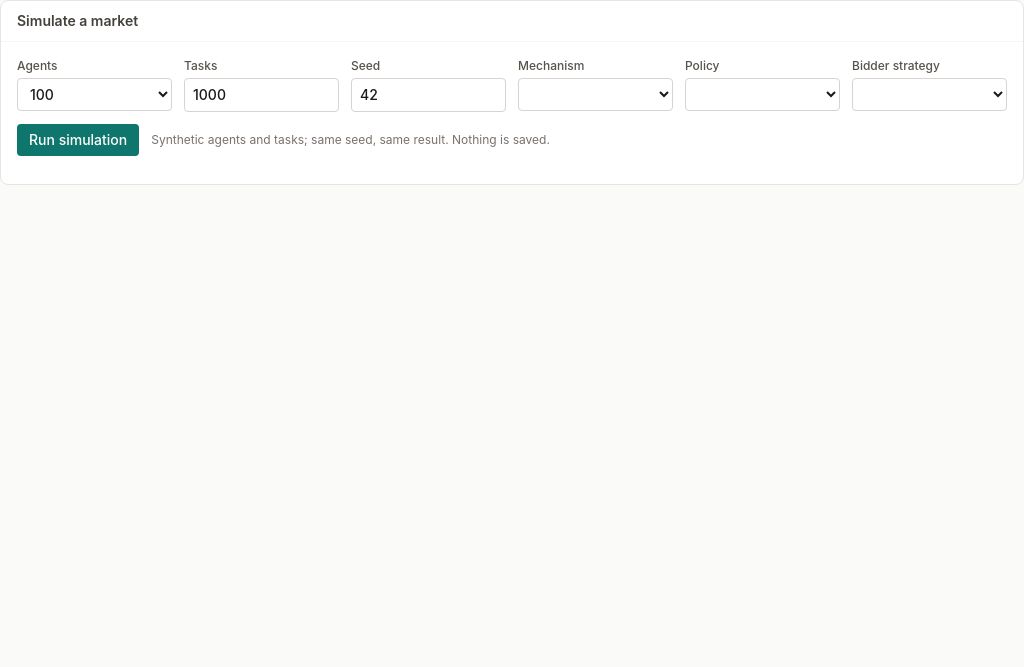
Test: Simulate › runs a simulation and shows metrics
Click the button "Run simulation".
click(78, 140)  # box x1=17 y1=124 x2=139 y2=156
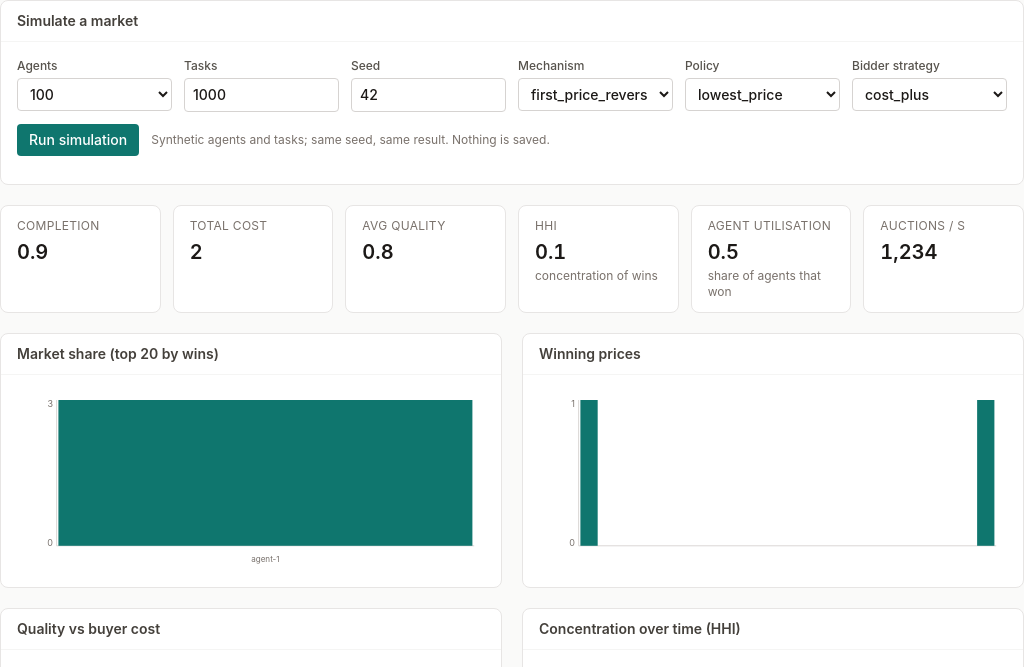
Expected: the text "1,234" is shown, x1=880 y1=240 x2=937 y2=264
Expected: the picture named "market share" is shown, x1=17 y1=391 x2=485 y2=571
